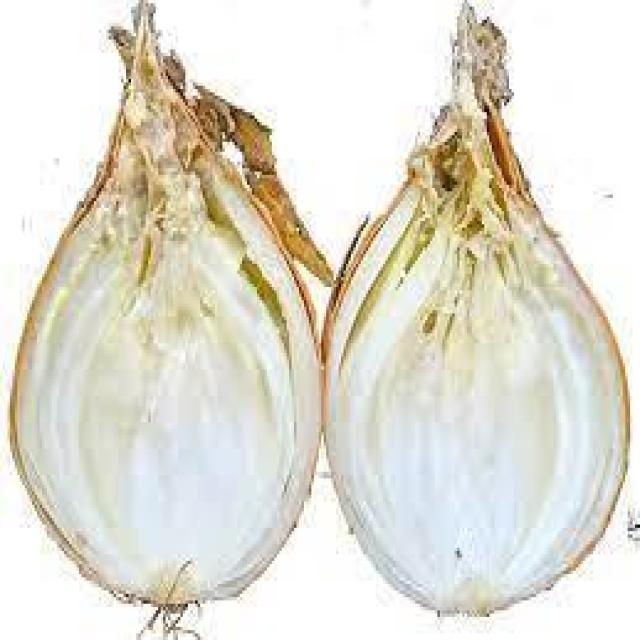Onion: (323, 16, 632, 627), (15, 7, 321, 617)
